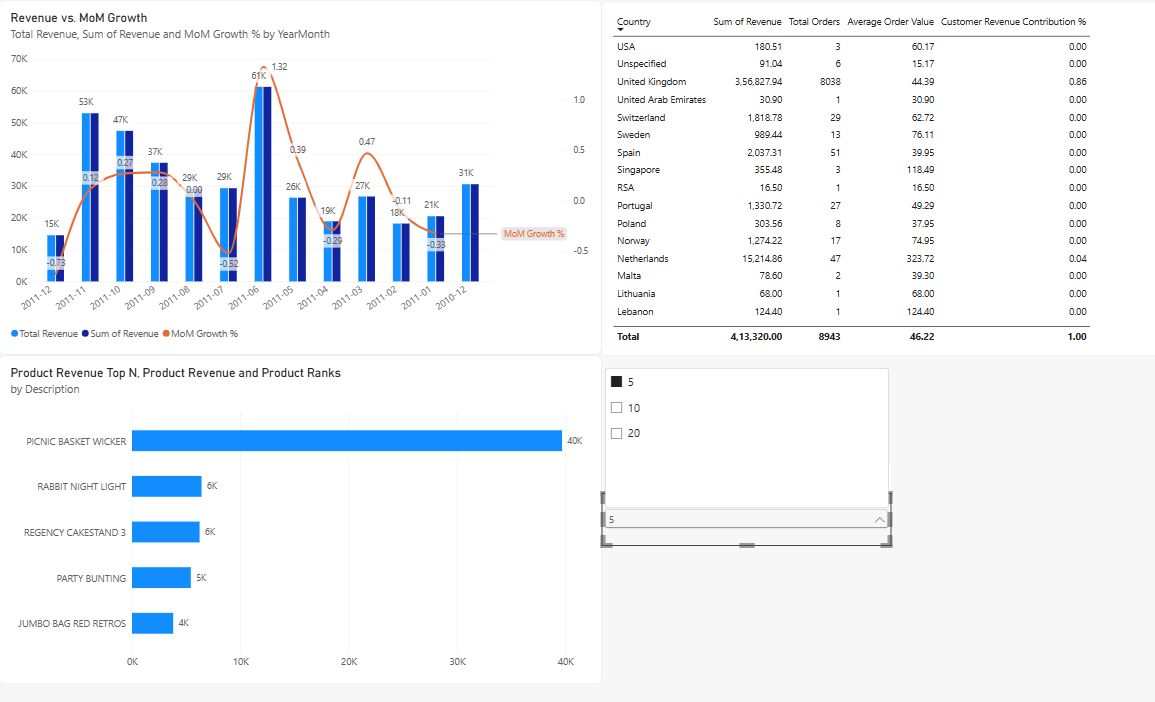

The page's visual inventory and layout, read from the dashboard file:
{"tool":"powerbi","page":{"name":"Sales Performance","canvas":[1920,1080],"ordinal":1},"visuals":[{"type":"lineClusteredColumnComboChart","title":"Revenue vs. MoM Growth","fields":{"Category":["dim_date.YearMonth"],"Y":["retail_clean.Total Revenue","Sum(retail_clean.Revenue)"],"Y2":["retail_clean.MoM Growth %"]},"box":[0,18.2,887.3,521.8],"z":0},{"type":"tableEx","fields":{"Values":["dim_country.Country","Sum(retail_clean.Revenue)","retail_clean.Total Orders","retail_clean.Average Order Value","retail_clean.Customer Revenue Contribution %"]},"box":[887.3,20,947.3,521.8],"z":1000},{"type":"clusteredBarChart","fields":{"Category":["dim_product.Description"],"Y":["Top N.Product Revenue Top N"]},"box":[0,541.8,887.3,483.6],"z":2000},{"type":"slicer","fields":{"Values":["TopNSelector.Top N"]},"box":[887.3,541.8,427.3,80],"z":3000}]}

Visuals, with their boxes on the page's 1920x1080 design canvas (x1, y1, x2, y2). These are canvas units, not pixel positions in the 1155x702 screenshot, which may show the page scaled, cropped or inside an application window:
"Revenue vs. MoM Growth" lineClusteredColumnComboChart: Rect(0, 18, 887, 540)
tableEx - dim_country.Country x Sum(retail_clean.Revenue): Rect(887, 20, 1835, 542)
clusteredBarChart - dim_product.Description x Top N.Product Revenue Top N: Rect(0, 542, 887, 1025)
slicer - TopNSelector.Top N: Rect(887, 542, 1315, 622)
